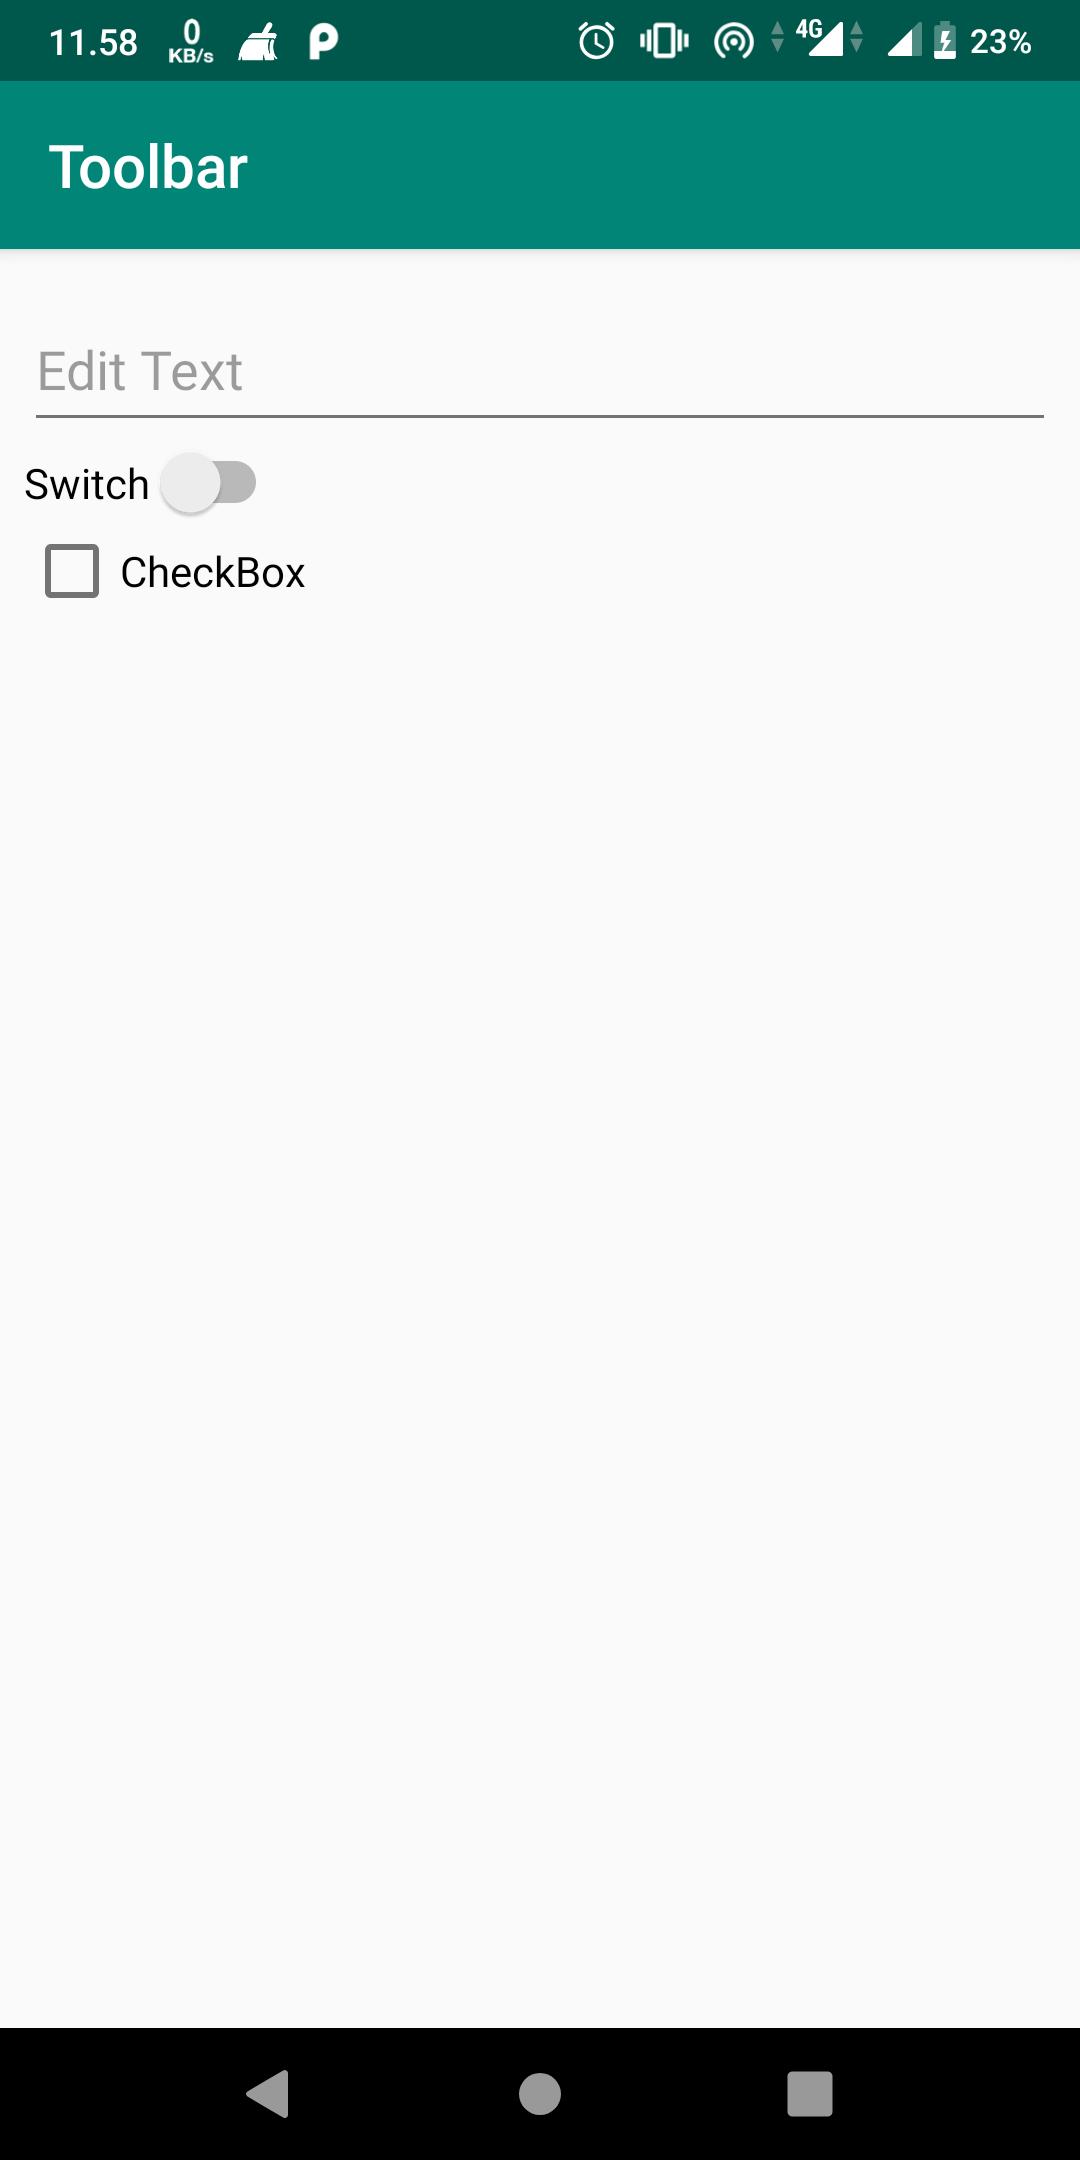checkBox: (28, 534, 303, 609)
editText: (25, 322, 1061, 441)
switch: (15, 457, 273, 512)
toolbar: (3, 80, 1079, 247)
